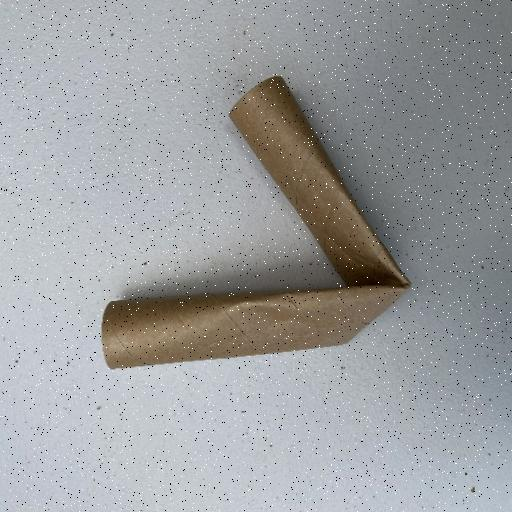Cardboard: (100, 74, 412, 370), (227, 74, 411, 290)
